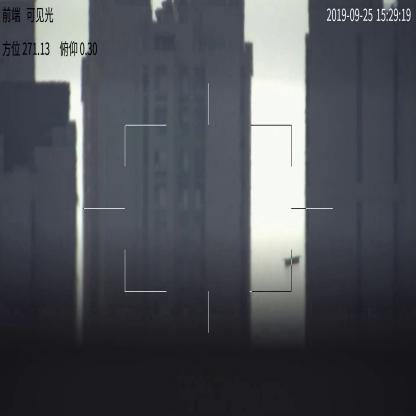uav: (285, 254, 299, 268)
